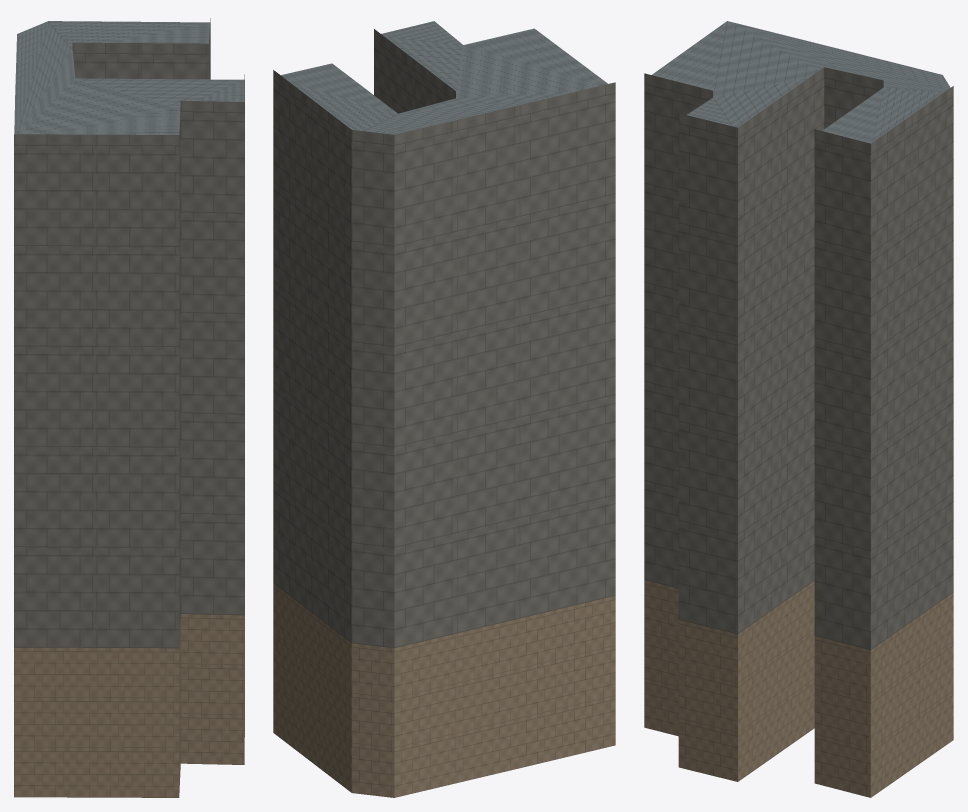
File: bld_c1_0_537.gltf
3 renders of one model, left to right at view 1: azimuth 30°, elevation 25°; view 2: azimuth 150°, elevation 25°; view 3: azimuth 270°, elevation 25°, orthographic.
Parts seen in each view (by area): view 1: bld_c1_0_537; view 2: bld_c1_0_537; view 3: bld_c1_0_537.
Part boxes in pixels (x1,y1,x2,y2): bld_c1_0_537: [14, 18, 244, 797]; bld_c1_0_537: [273, 21, 615, 797]; bld_c1_0_537: [644, 21, 953, 797].
Size of the model in its own units: 9.6 by 22.58 by 9.68.
Materials: 4 (4 with a texture image).
